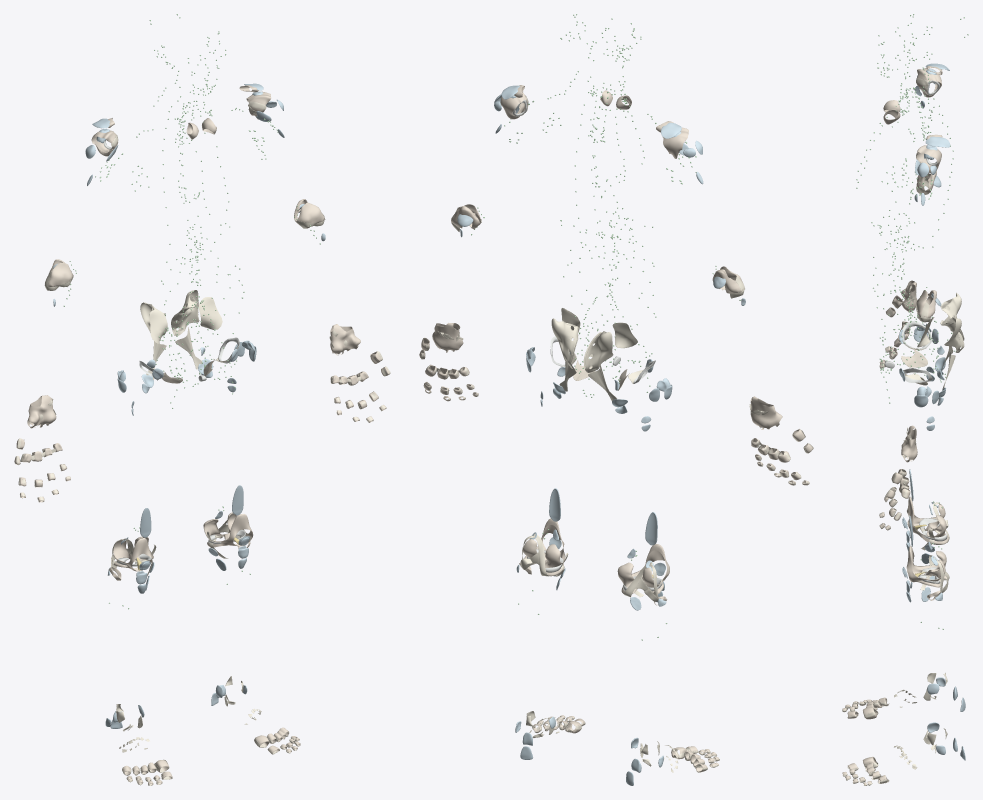
Rendered from zanatomy-joints.glb.
3 views of the same model, side by side, from view 1: azimuth 30°, elevation 25°; view 2: azimuth 150°, elevation 25°; view 3: azimuth 270°, elevation 25° (orthographic). The views are drawn at different scales.
Visible parts, largest first — view 1: zj_knee_joint_capsule_l_1, zj_knee_joint_capsule_r_1, zj_posterior_sacro_iliac_ligament_l_1, zj_radiocarpal_joint_capsule_r_1, zj_radiocarpal_joint_capsule_l_1; view 2: zj_knee_joint_capsule_r_1, zj_knee_joint_capsule_l_1, zj_posterior_sacro_iliac_ligament_r_1, zj_posterior_sacro_iliac_ligament_l_1, zj_radiocarpal_joint_capsule_r_1; view 3: zj_knee_joint_capsule_l_1, zj_knee_joint_capsule_r_1, zj_posterior_sacro_iliac_ligament_l_1, zj_radiocarpal_joint_capsule_l_1, zj_elbow_joint_capsule_l_1, zj_posterior_sacro_iliac_ligament_r_1, zj_radiocarpal_joint_capsule_r_1, zj_glenohumeral_joint_capsule_l_1, zj_glenohumeral_joint_capsule_r_1, zj_obturator_membrane_r_1, zj_metacarpophalangeal_joint_capsules_l_1, zj_metatarsophalangeal_joint_capsules_l_1 (+3 smaller).
Part boxes in pixels (bbox=[...]): zj_knee_joint_capsule_l_1: bbox=[203, 512, 253, 547]; zj_knee_joint_capsule_r_1: bbox=[113, 536, 153, 571]; zj_posterior_sacro_iliac_ligament_l_1: bbox=[171, 290, 199, 335]; zj_radiocarpal_joint_capsule_r_1: bbox=[27, 395, 56, 428]; zj_radiocarpal_joint_capsule_l_1: bbox=[330, 324, 360, 355]; zj_knee_joint_capsule_r_1: bbox=[617, 544, 669, 593]; zj_knee_joint_capsule_l_1: bbox=[522, 518, 565, 576]; zj_posterior_sacro_iliac_ligament_r_1: bbox=[583, 331, 613, 372]; zj_posterior_sacro_iliac_ligament_l_1: bbox=[551, 318, 578, 368]; zj_radiocarpal_joint_capsule_r_1: bbox=[750, 396, 782, 429]; zj_knee_joint_capsule_l_1: bbox=[906, 545, 947, 587]; zj_knee_joint_capsule_r_1: bbox=[907, 496, 948, 544]; zj_posterior_sacro_iliac_ligament_l_1: bbox=[940, 317, 964, 352]; zj_radiocarpal_joint_capsule_l_1: bbox=[901, 425, 917, 462]; zj_elbow_joint_capsule_l_1: bbox=[916, 290, 936, 317]; zj_posterior_sacro_iliac_ligament_r_1: bbox=[940, 292, 964, 340]; zj_radiocarpal_joint_capsule_r_1: bbox=[901, 280, 917, 312]; zj_glenohumeral_joint_capsule_l_1: bbox=[916, 145, 941, 172]; zj_glenohumeral_joint_capsule_r_1: bbox=[916, 68, 941, 97]; zj_obturator_membrane_r_1: bbox=[901, 349, 927, 367]; zj_metacarpophalangeal_joint_capsules_l_1: bbox=[891, 469, 910, 498]; zj_metatarsophalangeal_joint_capsules_l_1: bbox=[863, 757, 887, 783].
Size of the model in its own units: 0.8449 by 1.53 by 0.244.
